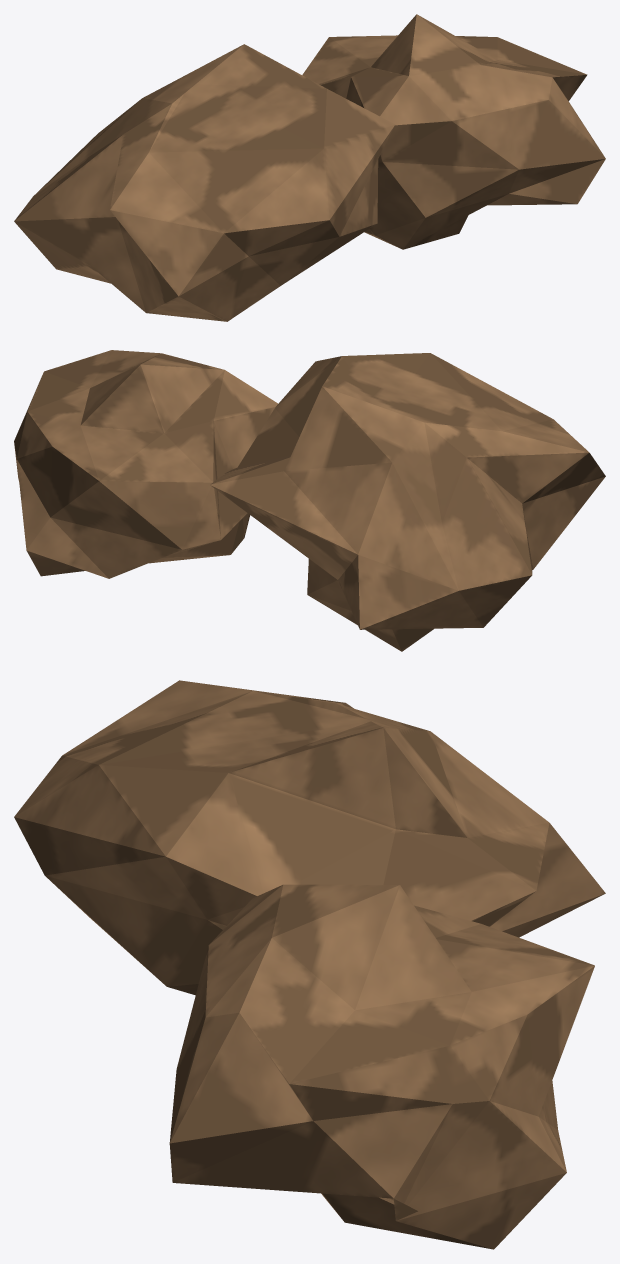
Rendered from copper_ore_2.glb.
3 renders of one model, top to bottom at view 1: azimuth 30°, elevation 25°; view 2: azimuth 150°, elevation 25°; view 3: azimuth 270°, elevation 25°, orthographic. The views are drawn at different scales.
Visible parts, largest first — view 1: stone_2; view 2: stone_2; view 3: stone_2.
Boxes of the visible parts, x1,y1,x2,y2 form: stone_2: (14,14,605,321); stone_2: (14,350,605,651); stone_2: (14,680,605,1249).
Bounding box in the file's own units: 0.5122 × 0.2287 × 0.3266.
Materials: 1 (1 with a texture image).
